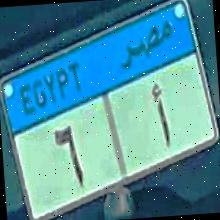6: (48, 119, 92, 188)
alif: (147, 82, 175, 148)
